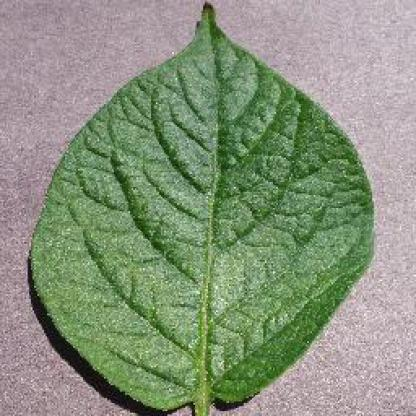bad leaf: (28, 13, 382, 406)
